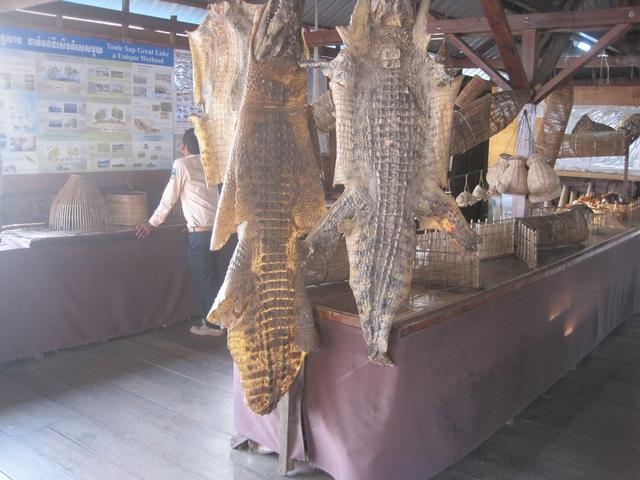crocodile: (176, 1, 469, 402)
